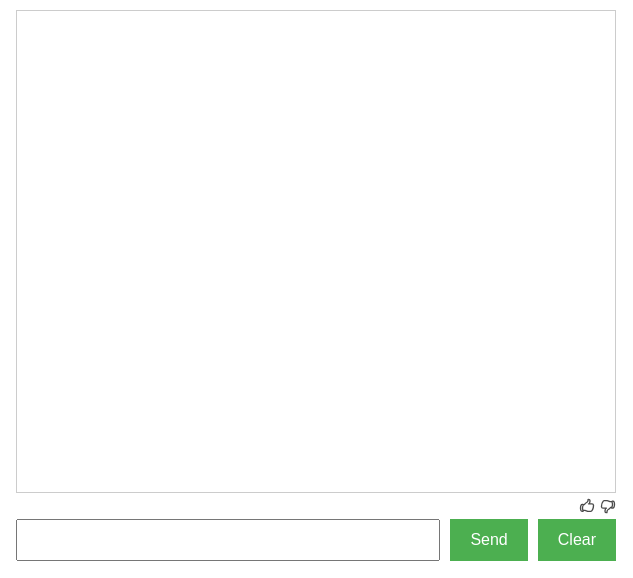
Scenario: Chat Component Unit Tests › Multi-turn conversation
Note: First question
Type "What is the capital of France?" into the field with test id "input-container" at (228, 540), box left=16, top=519, right=440, bottom=561
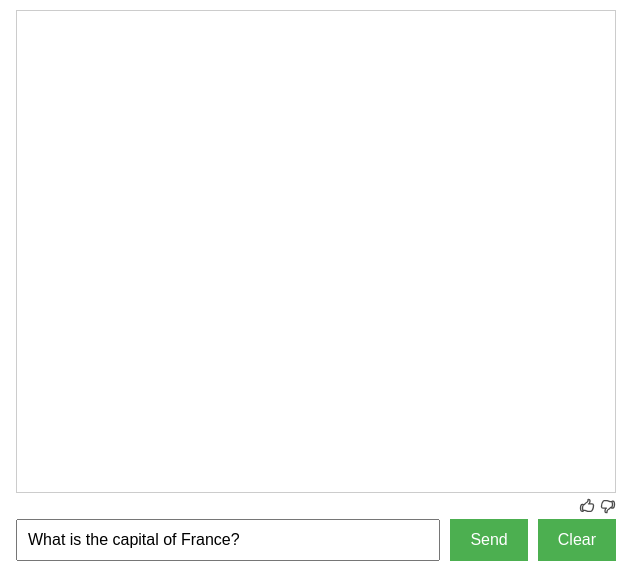
Click the button "Send" at (489, 540), box left=450, top=519, right=528, bottom=561
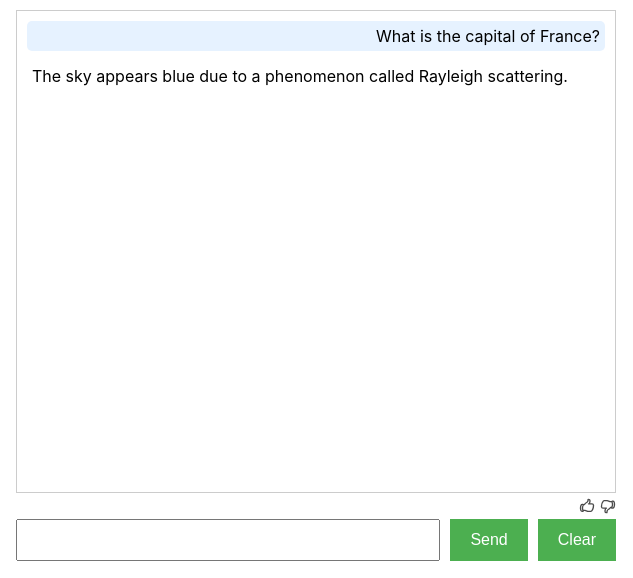
Now the text with test id "message-0" reads "What is the capital of France?", box left=376, top=26, right=600, bottom=46
Now the text with test id "message-1" reads "The sky appears blue due to a phenomenon called Rayleigh scattering.", box left=32, top=66, right=568, bottom=86
Note: Second question
Type "What is the capital of France?" into the field with test id "input-container" at (228, 540), box left=16, top=519, right=440, bottom=561
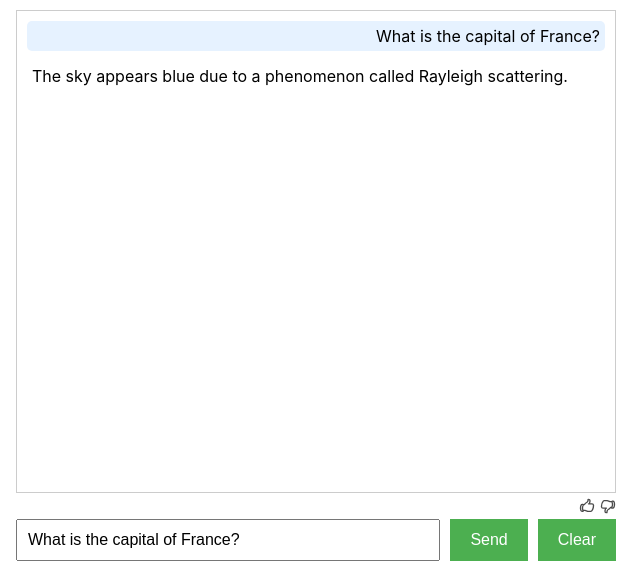
Click the button "Send" at (489, 540), box left=450, top=519, right=528, bottom=561
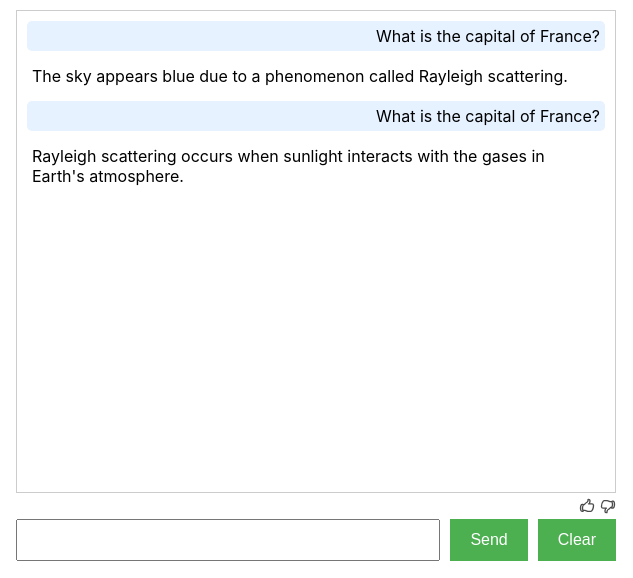
Now the text with test id "message-2" reads "What is the capital of France?", box left=376, top=106, right=600, bottom=126
Now the text with test id "message-3" shows "Rayleigh scattering occurs when sunlight interacts with the gases in Earth's atmosphere.", box left=32, top=146, right=545, bottom=186
